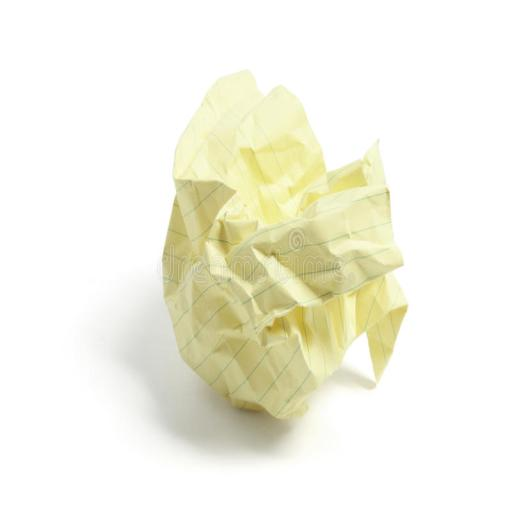Kertas: (159, 68, 412, 422)
